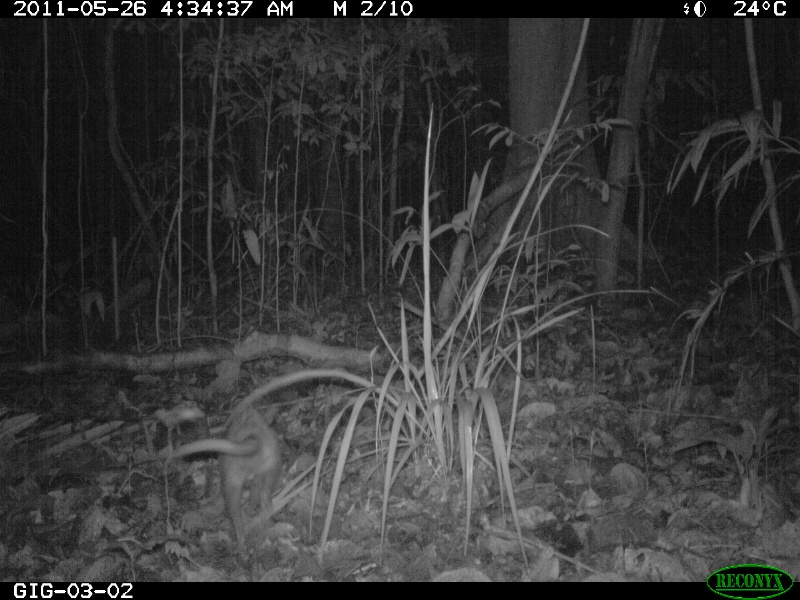opossum: (182, 406, 286, 554)
